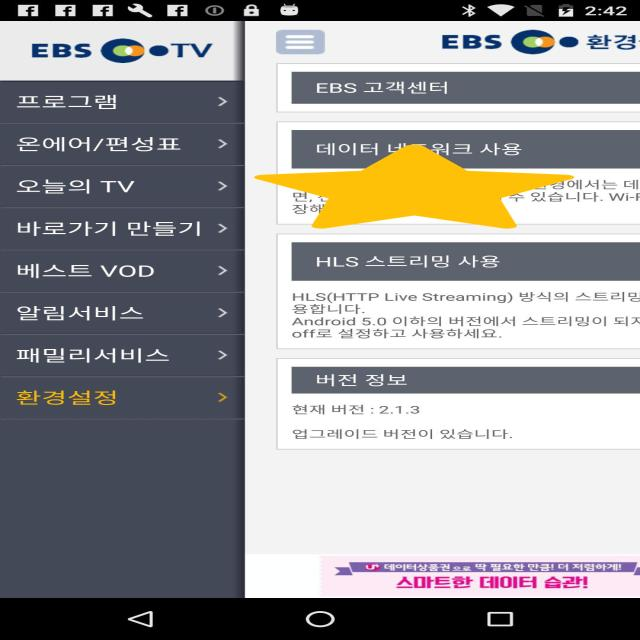forced continuity: (254, 144, 574, 228)
